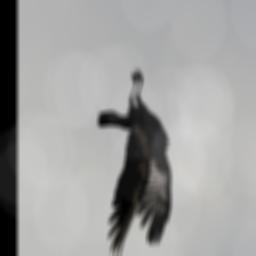Crow: (97, 65, 173, 256)
